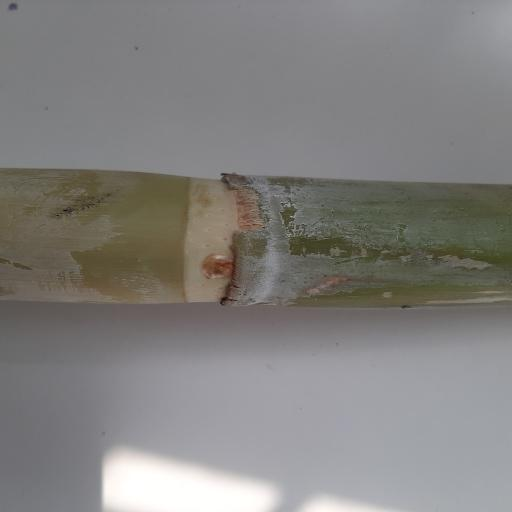Damage_Bud: (201, 253, 235, 279)
